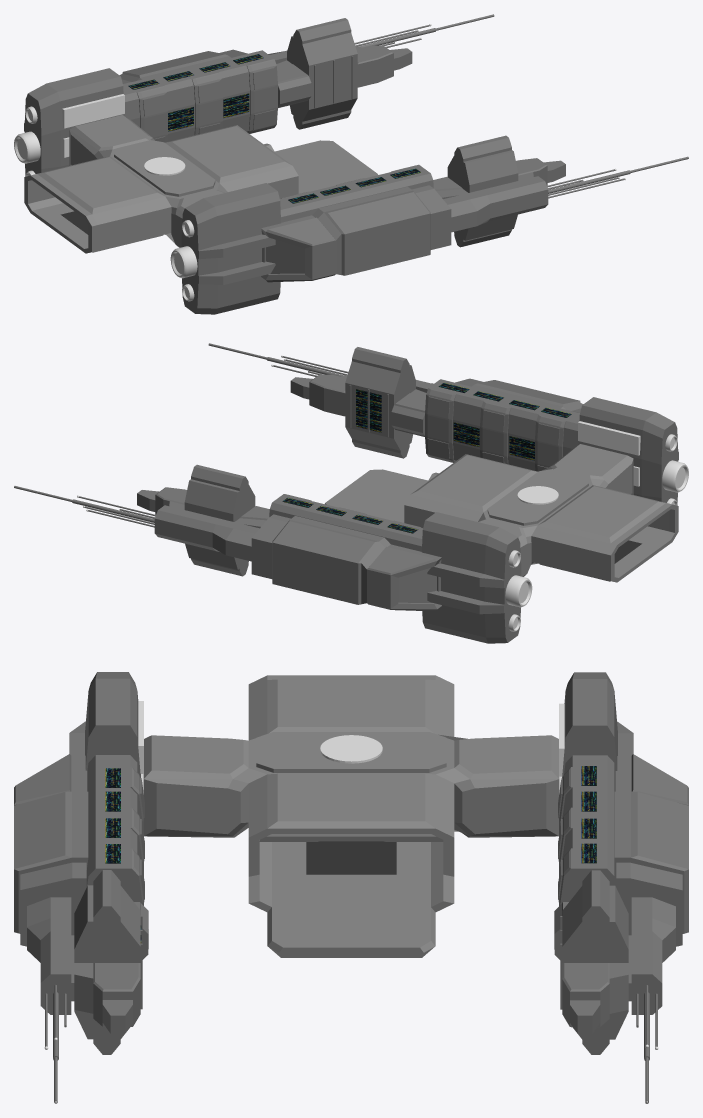
Rendered from starbasealpha2.fbx.
3 views of the same model, one above another, from view 1: azimuth 30°, elevation 25°; view 2: azimuth 150°, elevation 25°; view 3: azimuth 270°, elevation 25° (orthographic). The views are drawn at different scales.
Visible parts, largest first — view 1: Cube.072, Cube.002, Cube, Cube.003, Cylinder.001, Cube.014, Cylinder; view 2: Cube.002, Cube, Cube.072, Cube.003, Cylinder.001, Cube.079, Cylinder; view 3: Cube, Cube.072, Cube.002, Cube.026, Cube.003, Cylinder, Cube.001.
Part boxes in pixels (x1,y1,x2,y2): Cube.072: [181, 135, 688, 314]; Cube.002: [24, 14, 494, 174]; Cube: [24, 115, 377, 253]; Cube.003: [128, 54, 420, 203]; Cylinder.001: [14, 106, 197, 301]; Cube.014: [62, 94, 124, 157]; Cylinder: [144, 157, 185, 175]; Cube.002: [14, 464, 521, 643]; Cube: [325, 444, 678, 582]; Cube.072: [208, 343, 678, 502]; Cube.003: [282, 383, 571, 533]; Cylinder.001: [505, 434, 688, 631]; Cube.079: [578, 421, 640, 486]; Cylinder: [517, 486, 558, 504]; Cube: [143, 675, 559, 957]; Cube.072: [14, 672, 148, 1103]; Cube.002: [554, 672, 688, 1103]; Cube.026: [306, 841, 396, 874]; Cube.003: [105, 766, 596, 943]; Cylinder: [320, 735, 382, 763]; Cube.001: [259, 834, 443, 841].
Bounding box in the file's own units: 262528 × 50830 × 189322.
